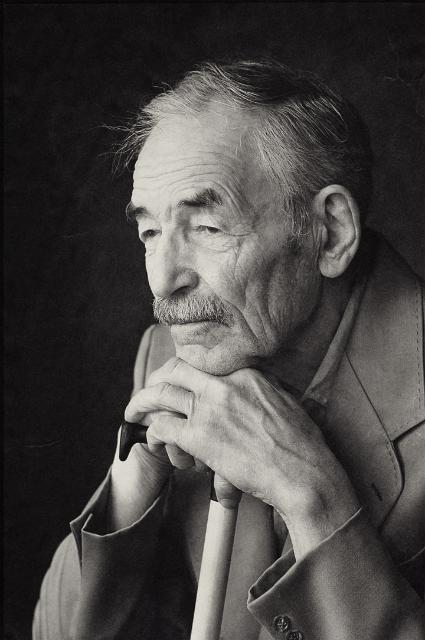chin: (179, 336, 210, 352)
crows_feet: (222, 222, 254, 248)
forehead: (176, 156, 224, 186), (143, 167, 169, 190)
masseter: (234, 300, 268, 336)
